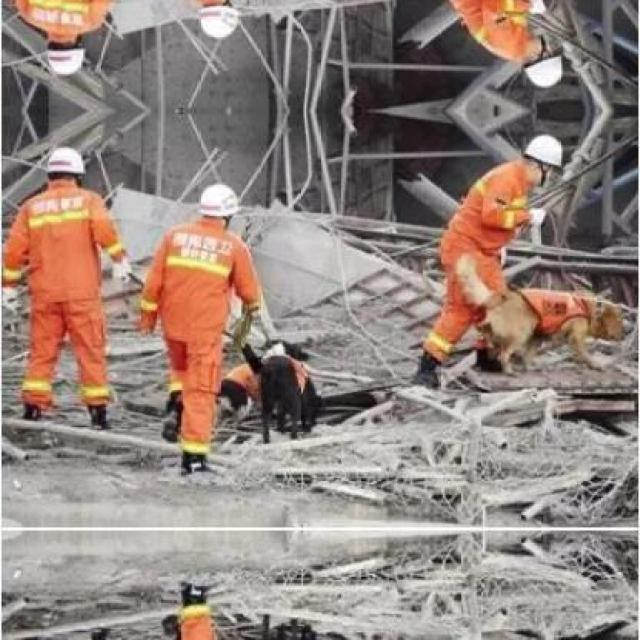Reflective-Jacket: (3, 184, 120, 410), (140, 225, 255, 363), (429, 156, 540, 279), (418, 1, 552, 68), (166, 597, 226, 640)
Safety-Helmet: (188, 178, 248, 225), (516, 128, 572, 176), (37, 139, 94, 183)
